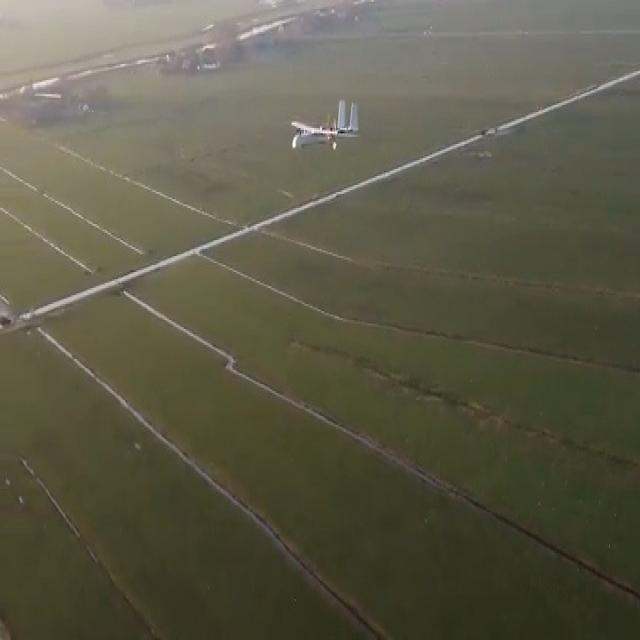iha: (318, 60, 331, 64)
